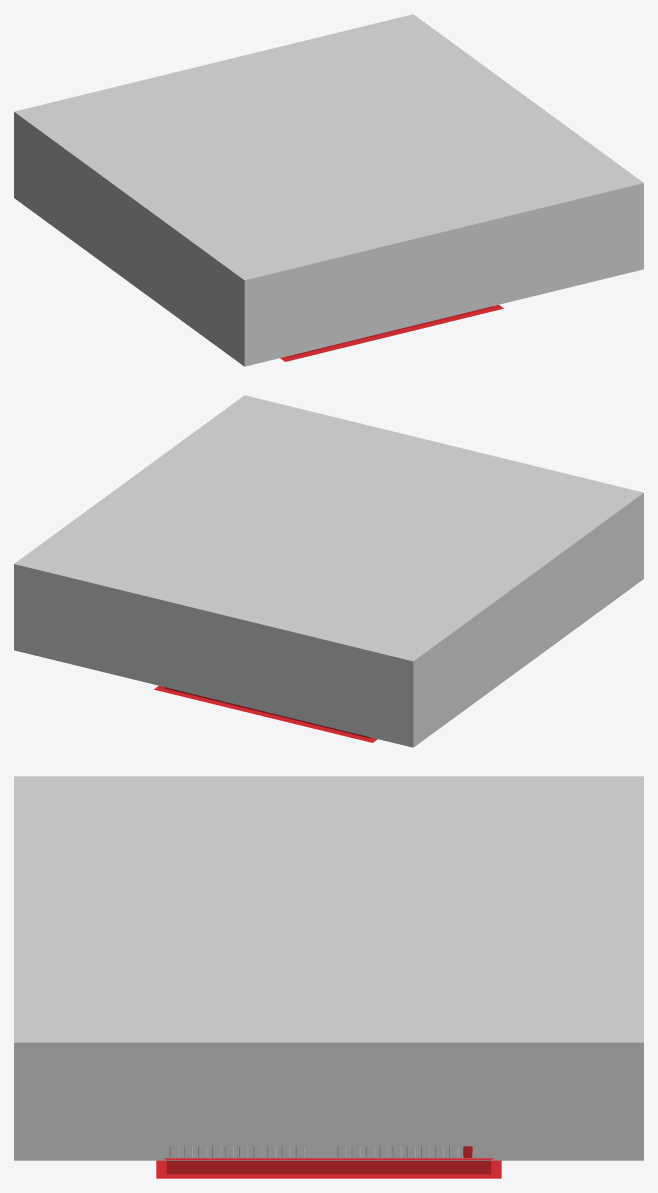
File: ArenaTest1.fbx
The picture shows the model from 3 angles, top to bottom: view 1: azimuth 30°, elevation 25°; view 2: azimuth 150°, elevation 25°; view 3: azimuth 270°, elevation 25°; orthographic projection. The views are drawn at different scales.
Parts seen in each view (by area): view 1: Light.011; view 2: Light.011; view 3: Light.011.
Boxes of the visible parts, box(x1,y1,x2,y2) form: Light.011: box(14, 14, 643, 366); Light.011: box(14, 395, 643, 747); Light.011: box(14, 776, 643, 1178).
Size of the model in its own units: 37467 by 12809 by 37253.
